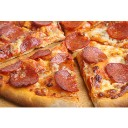pepperonipizza: (1, 21, 128, 107)
